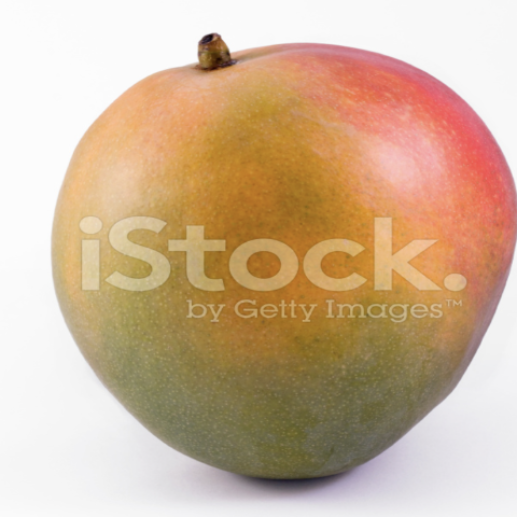mango: (19, 13, 517, 517)
